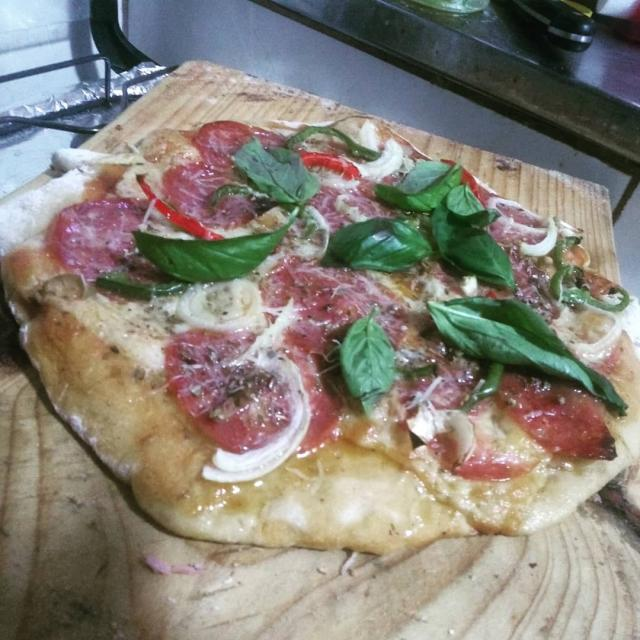basil: (424, 283, 628, 415), (130, 204, 308, 283), (427, 197, 519, 296), (230, 136, 322, 207), (323, 217, 432, 276), (338, 309, 395, 416), (375, 154, 464, 217), (445, 181, 503, 226)
pepperoni: (168, 323, 343, 457), (258, 255, 411, 355), (499, 362, 622, 463), (50, 192, 148, 298), (398, 356, 492, 442), (167, 157, 267, 232), (423, 428, 538, 486), (305, 172, 398, 237), (481, 190, 543, 266), (198, 120, 292, 168), (510, 254, 569, 322)
pizza: (0, 117, 640, 552)
